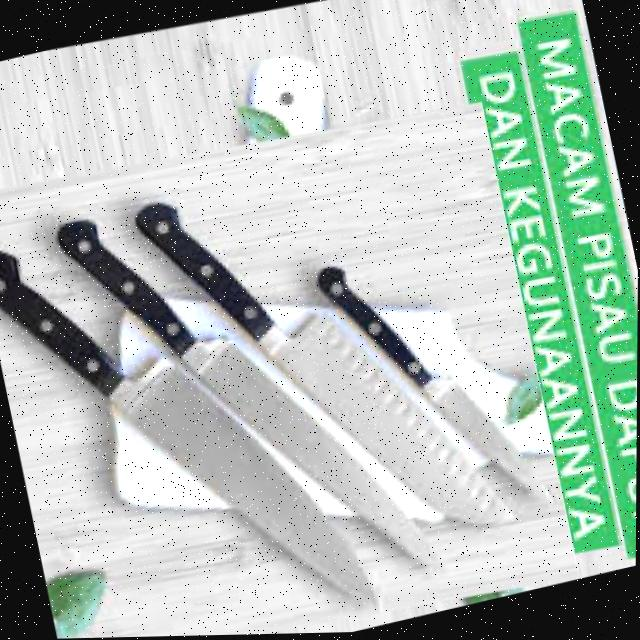knife: (49, 153, 447, 639), (126, 135, 524, 598), (0, 173, 385, 640), (309, 227, 555, 553)
